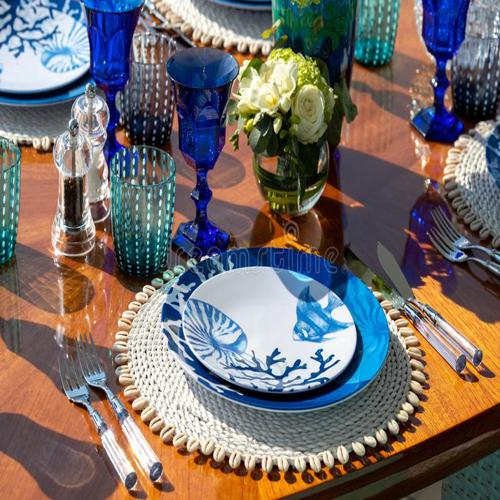copa: (165, 50, 236, 258), (76, 1, 141, 179), (411, 1, 465, 142)
vaso: (112, 144, 175, 287), (125, 35, 175, 151), (358, 1, 397, 68), (1, 137, 18, 272)
